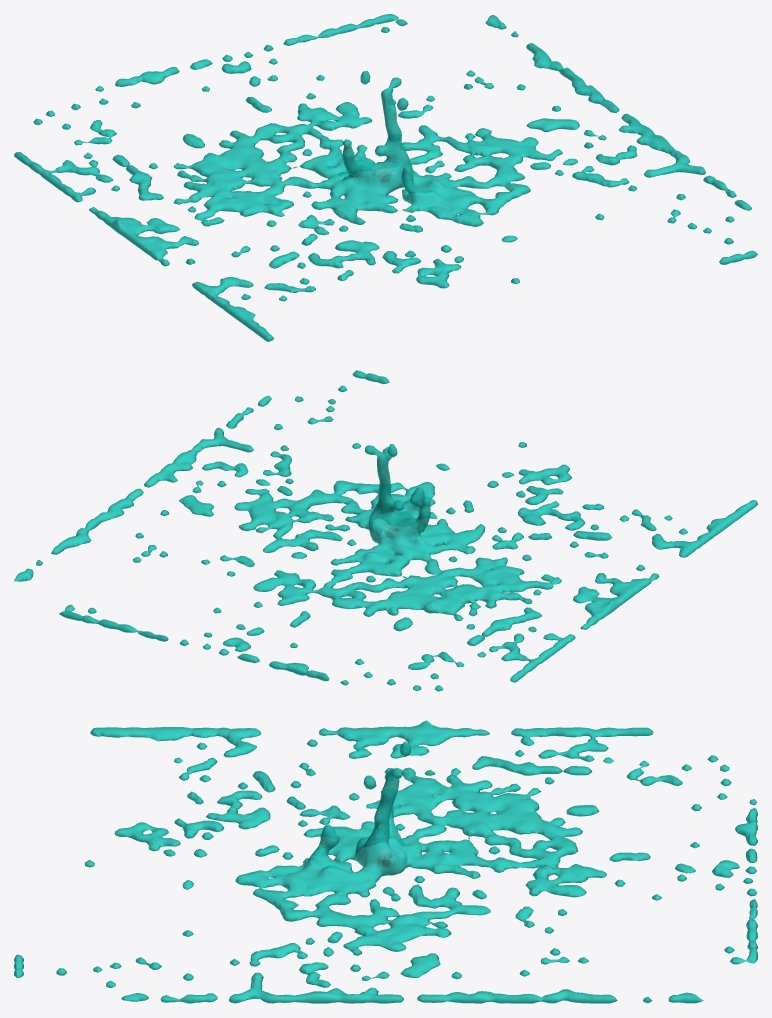
3 views of the same model, one above another, from view 1: azimuth 30°, elevation 25°; view 2: azimuth 150°, elevation 25°; view 3: azimuth 270°, elevation 25° (orthographic). The views are drawn at different scales.
Visible parts, largest first — view 1: Liquid_Domain; view 2: Liquid_Domain; view 3: Liquid_Domain.
Boxes of the visible parts, left/top/right/bottom form: Liquid_Domain: left=14, top=14, right=757, bottom=341; Liquid_Domain: left=14, top=370, right=757, bottom=691; Liquid_Domain: left=14, top=720, right=757, bottom=1003.
Bounding box in the file's own units: 12.44 × 2.62 × 14.41.
